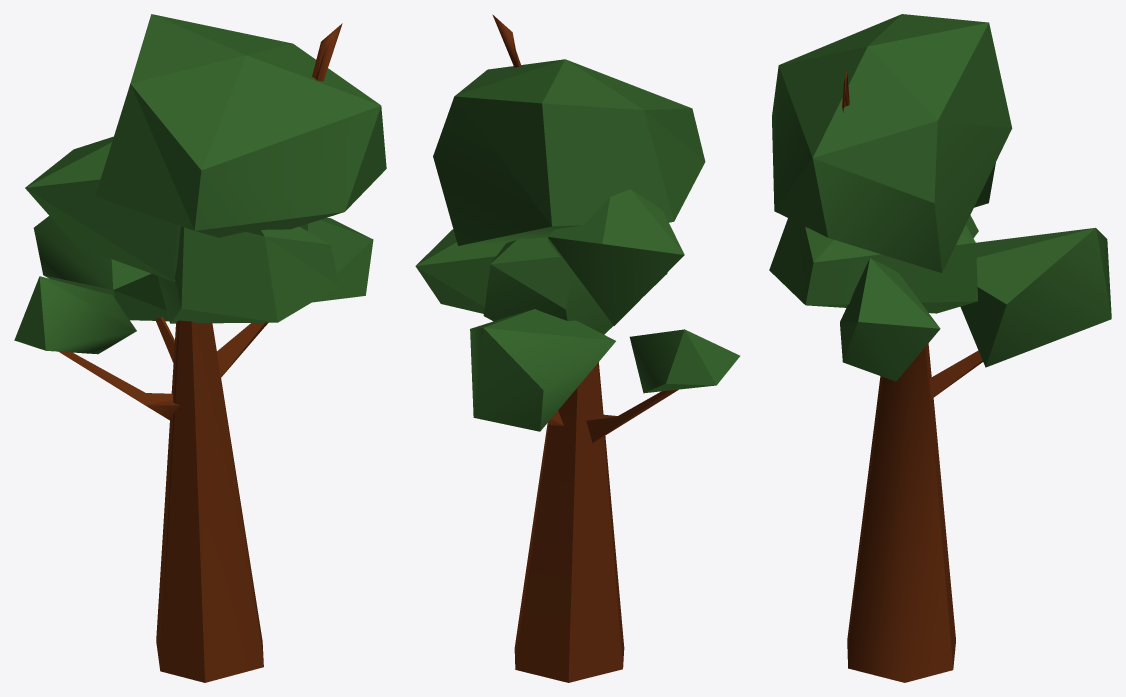
File: Tree3_med.glb
3 views of the same model, side by side, from view 1: azimuth 30°, elevation 25°; view 2: azimuth 150°, elevation 25°; view 3: azimuth 270°, elevation 25° (orthographic). The views are drawn at different scales.
Visible parts, largest first — view 1: Tree_temp_climate_003, Tree_temp_climate_003.001; view 2: Tree_temp_climate_003, Tree_temp_climate_003.001; view 3: Tree_temp_climate_003, Tree_temp_climate_003.001.
Boxes of the visible parts, x1,y1,x2,y2 form: Tree_temp_climate_003: (14, 14, 386, 354); Tree_temp_climate_003.001: (59, 23, 342, 682); Tree_temp_climate_003: (415, 59, 740, 431); Tree_temp_climate_003.001: (492, 14, 678, 682); Tree_temp_climate_003: (769, 14, 1111, 381); Tree_temp_climate_003.001: (842, 71, 982, 682).
Bounding box in the file's own units: 2.53 × 4.78 × 2.33.
